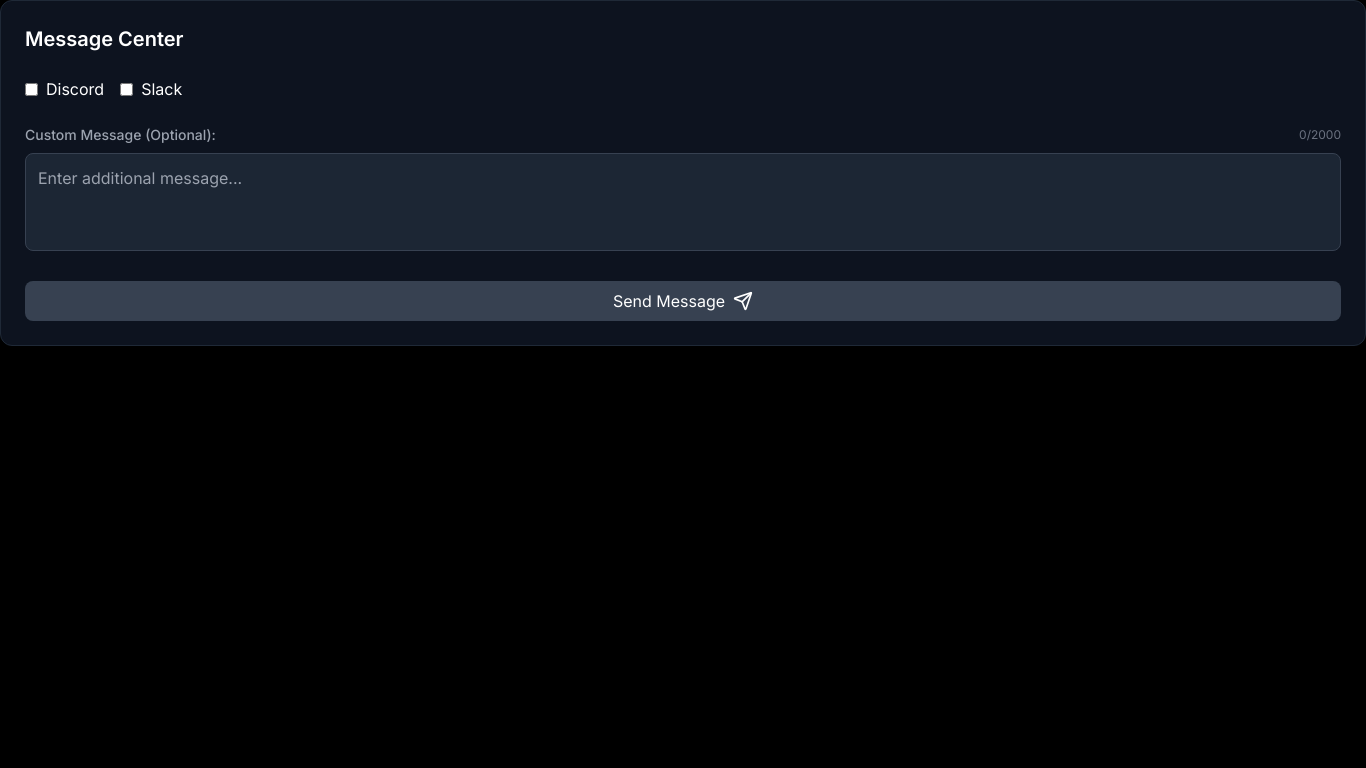
Test: MessagePanel › handles message sending errors
The width and height of the screenshot is (1366, 768).
Step 1. Type "Test message" into the text box with placeholder "Enter additional message..." → (683, 202), box x1=25 y1=153 x2=1341 y2=251
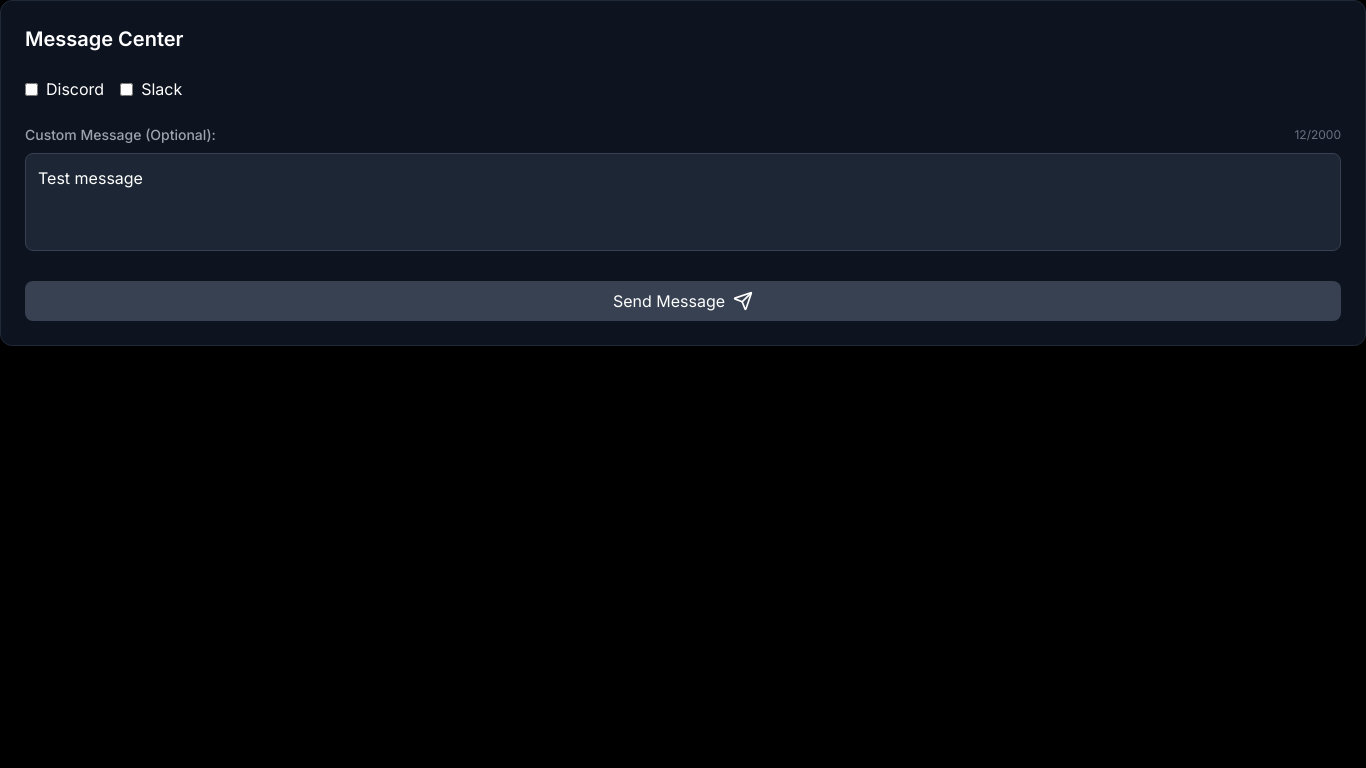
Step 2. Click the checkbox labelled "discord" → (32, 89), box x1=25 y1=82 x2=38 y2=96
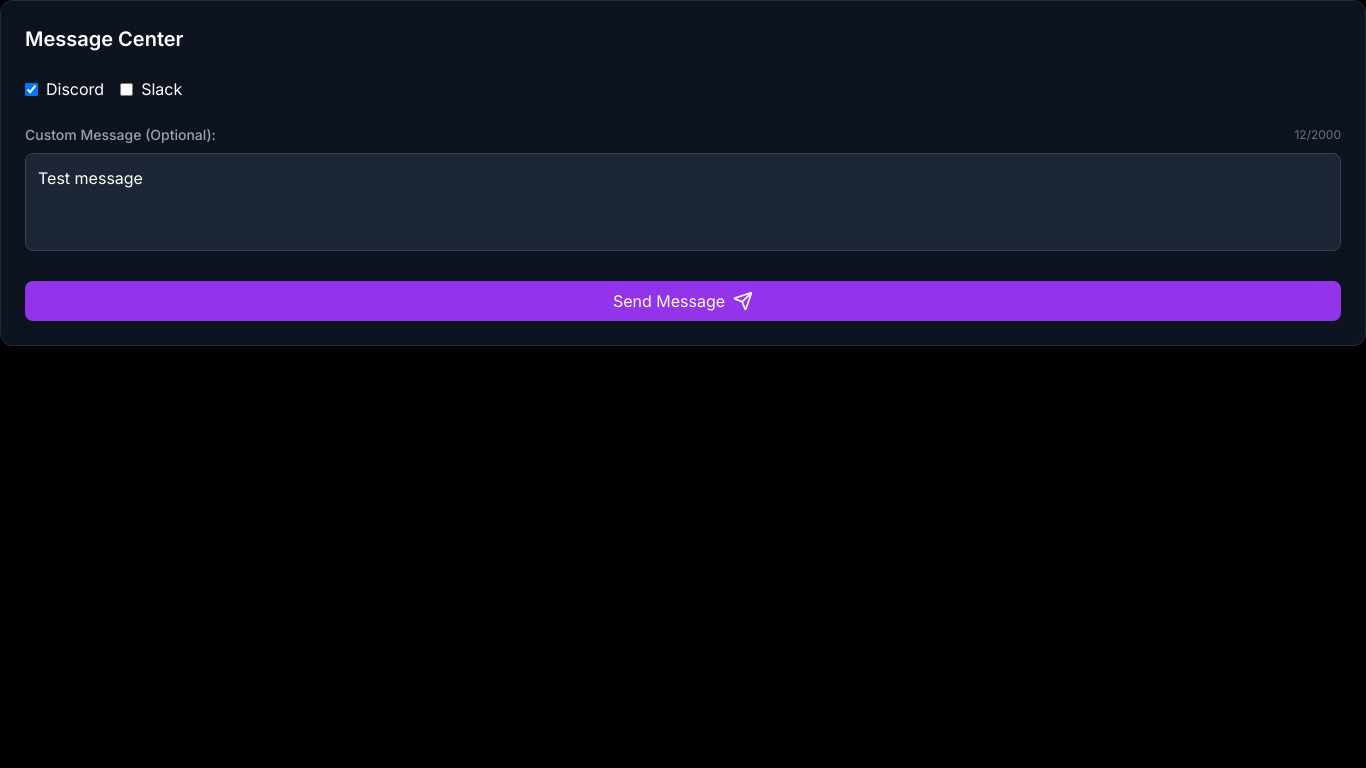
Step 3. Click the button "Send Message" → (683, 301), box x1=25 y1=281 x2=1341 y2=321
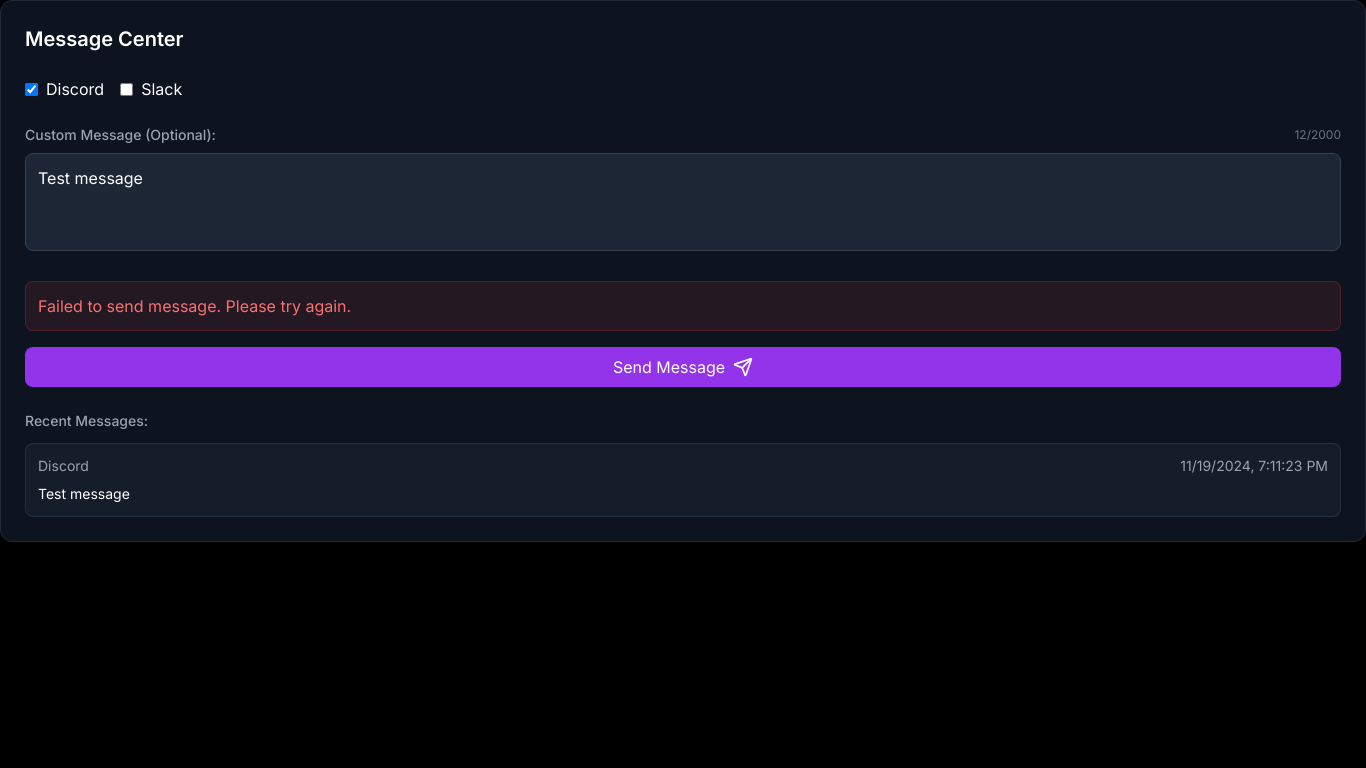
Now the text "Failed to send message. Please try again." is shown, box x1=25 y1=281 x2=1341 y2=331
